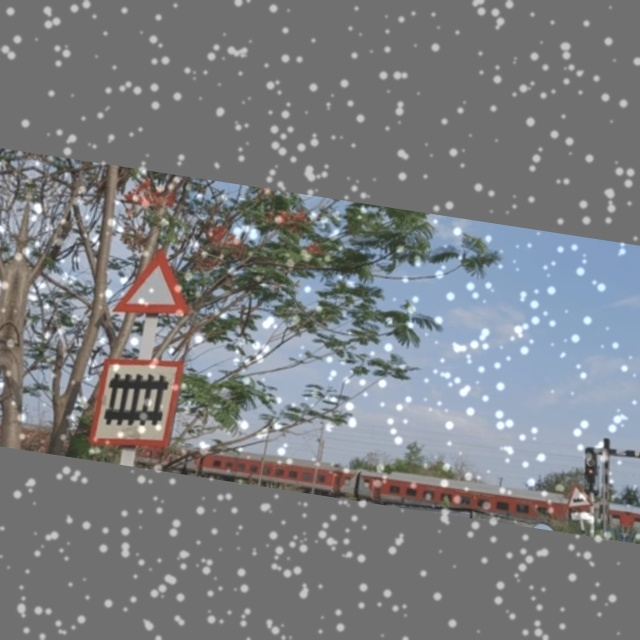Guarded_Level_Crossing: (87, 340, 191, 453)
